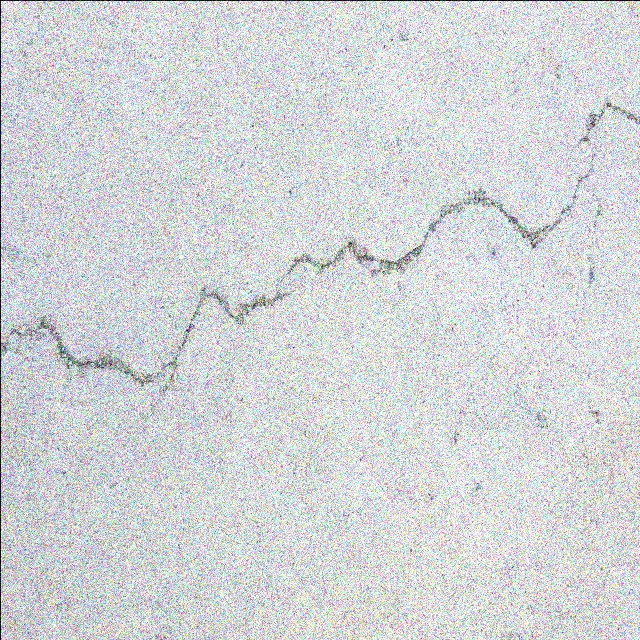SurfaceCrack: (0, 147, 638, 429)
